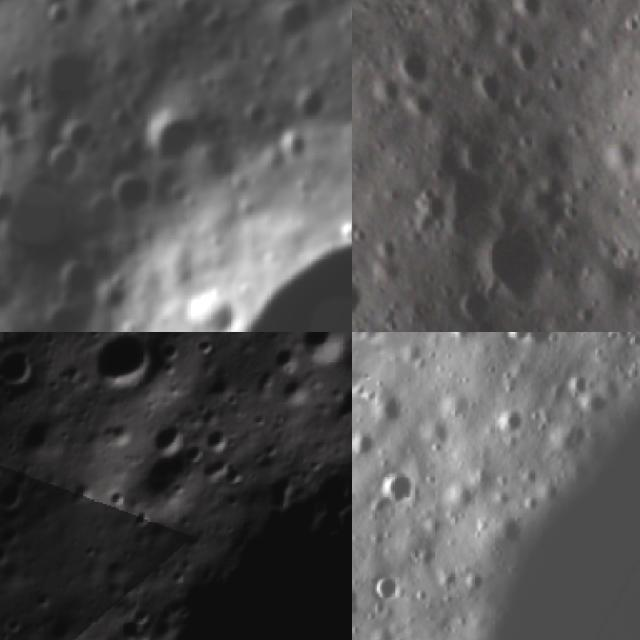crater: (48, 62, 352, 332), (396, 128, 534, 274), (465, 213, 572, 329), (109, 421, 218, 533), (72, 332, 174, 408), (25, 25, 104, 123), (136, 95, 210, 167), (14, 397, 81, 471), (381, 34, 444, 98), (102, 158, 161, 223), (68, 188, 128, 250), (462, 60, 520, 123), (258, 456, 314, 518), (444, 275, 504, 332), (54, 463, 110, 522), (0, 334, 53, 395), (501, 24, 558, 79), (140, 412, 196, 467), (373, 458, 426, 512), (289, 332, 352, 374), (352, 46, 379, 143), (41, 140, 90, 190), (494, 0, 559, 37), (267, 366, 315, 414), (0, 465, 38, 525), (321, 367, 352, 440), (366, 383, 413, 431), (364, 565, 412, 612), (262, 0, 326, 35), (492, 400, 536, 446), (199, 416, 242, 460), (0, 510, 33, 562), (352, 267, 379, 330), (217, 456, 256, 497), (264, 339, 302, 378), (35, 0, 76, 34), (352, 421, 383, 464), (516, 332, 569, 357), (0, 605, 32, 640), (490, 332, 544, 352), (352, 579, 375, 623), (0, 537, 18, 577), (446, 332, 489, 348), (410, 332, 451, 341)
